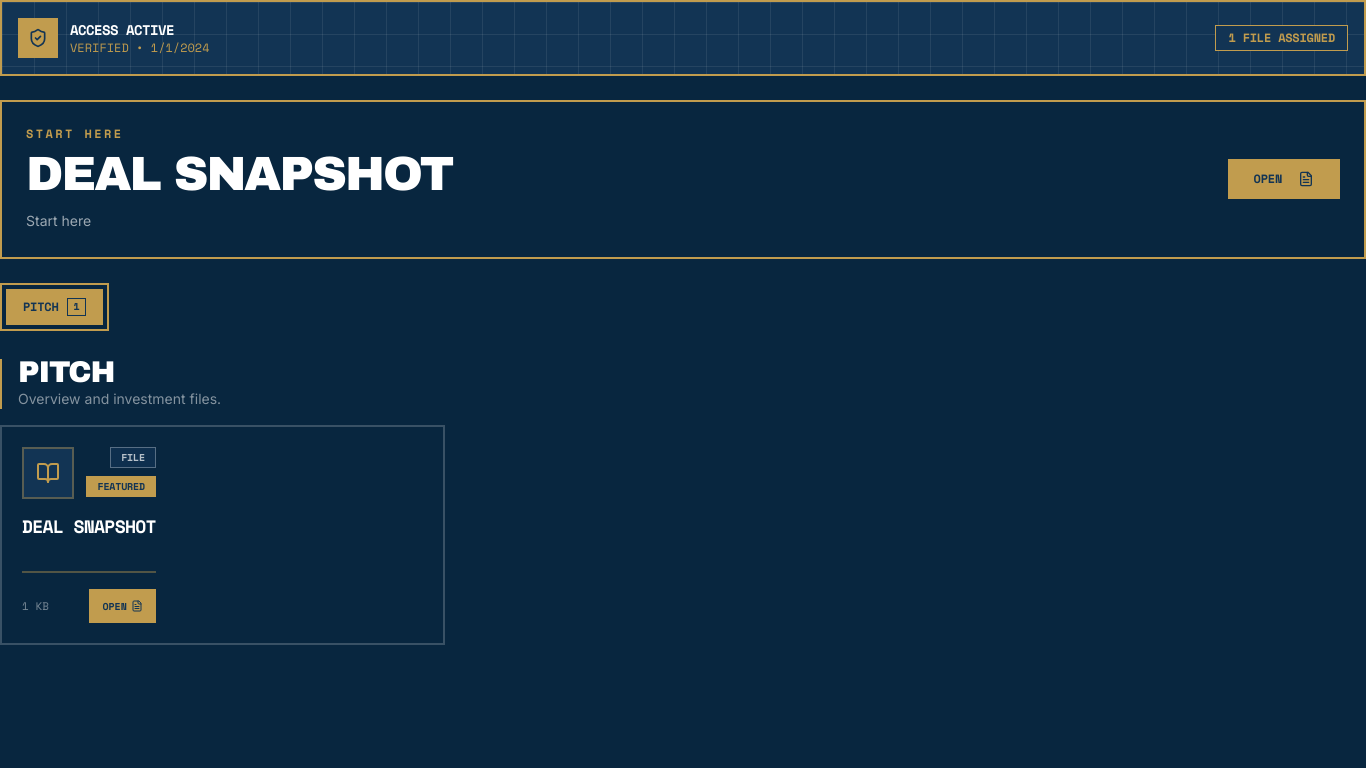
it: DocumentsTab › NDA Signed State › should open document files in an in-page preview
Later steps or results of the test are not shown.
Click the button with aria-label "open deal snapshot" at x=48, y=473, box [0,425,445,645]
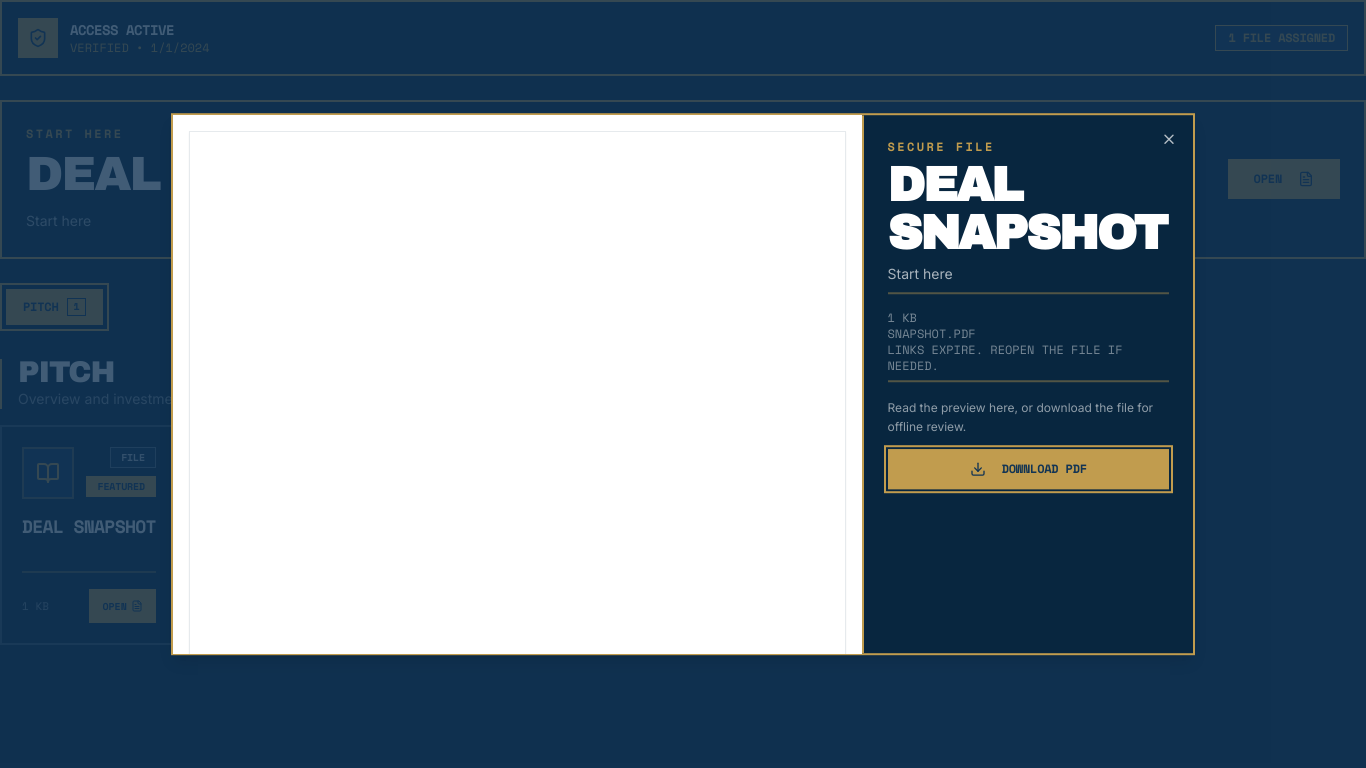
Now the element named "Deal Snapshot PDF preview" is shown, box [173,115,862,653]
